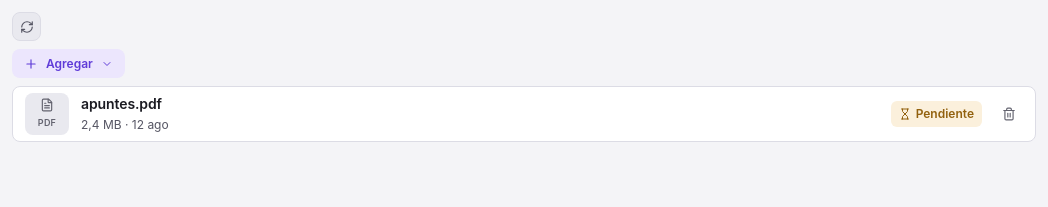
Test: AdjuntosContainer › clears a channel-level failure message once a later action succeeds
Expected: the text "apuntes.pdf" is shown, top-left (81, 95), bottom-right (162, 112)
Click the button named "Eliminar ": [1008, 114] box top-left (994, 99), bottom-right (1023, 128)
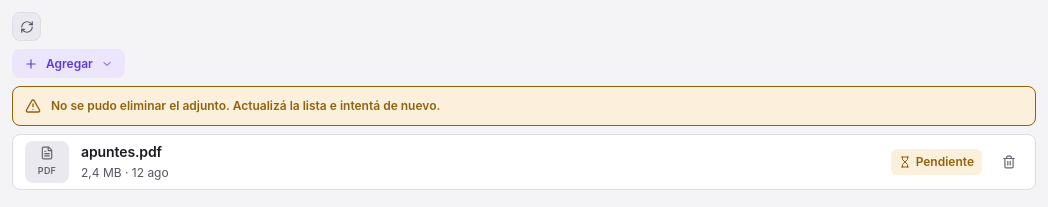
Expected: the text "No se pudo eliminar el adjunto. Actualizá la lista e intentá de nuevo." is shown, top-left (51, 97), bottom-right (440, 115)
Click the button named "Eliminar ": [1008, 162] box top-left (994, 147), bottom-right (1023, 176)
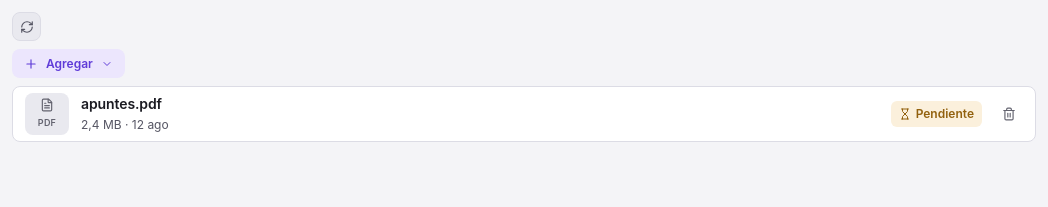
Expected: the text "No se pudo eliminar el adjunto. Actualizá la lista e intentá de nuevo." is gone
